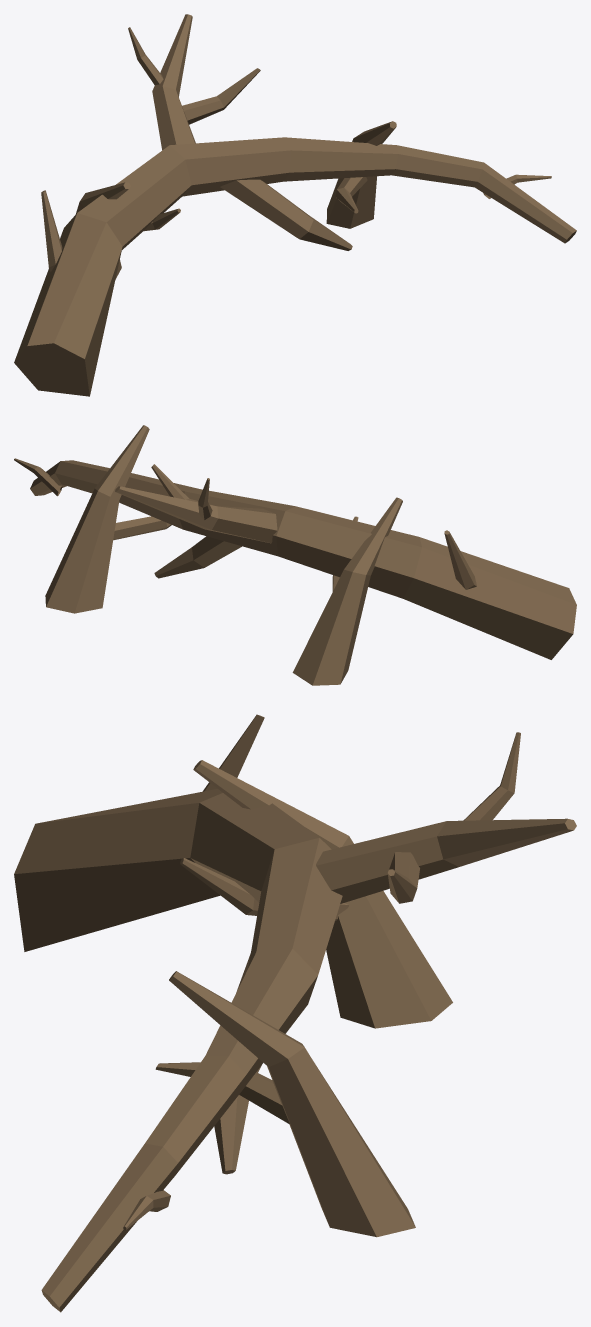
File: branch_fence_2.glb
3 views of the same model, one above another, from view 1: azimuth 30°, elevation 25°; view 2: azimuth 150°, elevation 25°; view 3: azimuth 270°, elevation 25° (orthographic). The views are drawn at different scales.
Visible parts, largest first — view 1: branch_fence_2; view 2: branch_fence_2; view 3: branch_fence_2.
Part boxes in pixels (<box>): branch_fence_2: <box>14,14,576,396</box>; branch_fence_2: <box>14,425,576,685</box>; branch_fence_2: <box>14,714,576,1312</box>.
Size of the model in its own units: 1.99 by 0.7579 by 1.03.
1 material, 1 textured.
